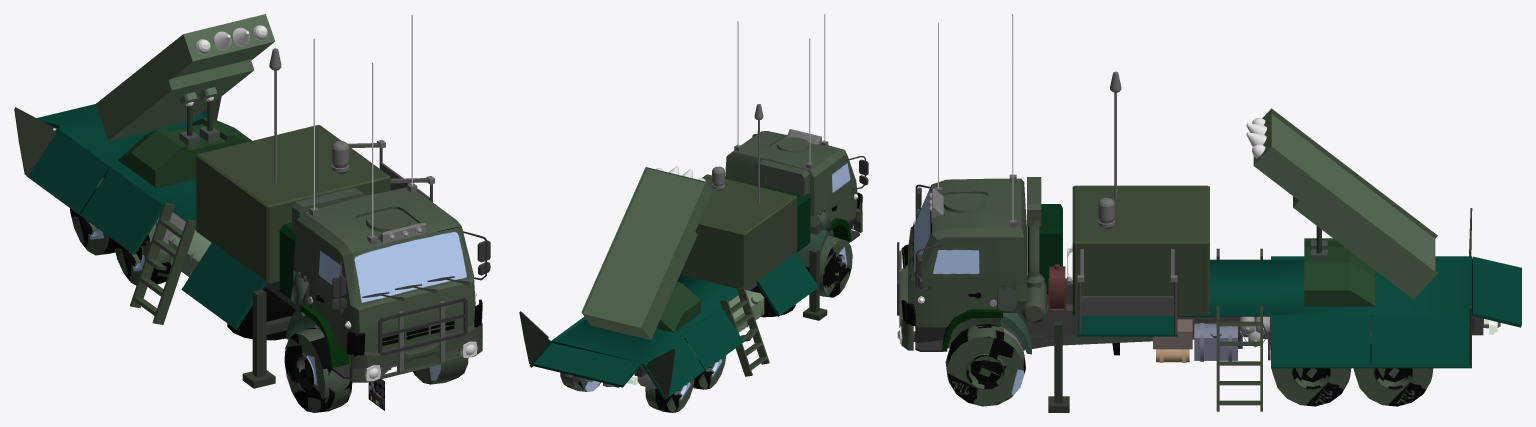
Rendered from only-antenna-deployed(green).fbx.
3 renders of one model, left to right at view 1: azimuth 30°, elevation 25°; view 2: azimuth 150°, elevation 25°; view 3: azimuth 270°, elevation 25°, orthographic. The views are drawn at different scales.
Parts seen in each view (by area): view 1: Куб.131, Куб.136, Cube, Cube.002, Цилиндр.051, Cube.001, Cube.008, Куб.096, Cube.016, Cube.011, Cube.007, Цилиндр.053 (+16 smaller); view 2: Cube.002, Куб.136, Cube, Куб.131, Цилиндр.051, Cube.008, Цилиндр.059, Цилиндр.001, Cube.001, Cube.015, Cube.011, Cube.010 (+6 smaller); view 3: Куб.136, Cube, Куб.131, Cube.002, Цилиндр.051, Cube.001, Цилиндр.001, Цилиндр.053, Куб.118, Цилиндр.059, Cube.018, Cube.009 (+11 smaller).
Part boxes in pixels (bbox=[...]): Куб.131: bbox=[293, 187, 482, 369]; Куб.136: bbox=[26, 104, 279, 329]; Cube: bbox=[196, 124, 390, 283]; Cube.002: bbox=[95, 14, 275, 140]; Цилиндр.051: bbox=[284, 327, 468, 412]; Cube.001: bbox=[118, 117, 251, 187]; Cube.008: bbox=[130, 203, 196, 324]; Куб.096: bbox=[349, 323, 482, 382]; Cube.016: bbox=[242, 289, 291, 388]; Cube.011: bbox=[14, 107, 56, 175]; Cube.007: bbox=[378, 297, 467, 355]; Цилиндр.053: bbox=[113, 223, 171, 285]; Cube.002: bbox=[581, 167, 712, 339]; Куб.136: bbox=[529, 252, 818, 399]; Cube: bbox=[680, 174, 797, 289]; Куб.131: bbox=[725, 131, 862, 252]; Цилиндр.051: bbox=[805, 235, 852, 297]; Cube.008: bbox=[720, 287, 769, 376]; Цилиндр.059: bbox=[754, 159, 809, 195]; Цилиндр.001: bbox=[560, 372, 694, 412]; Cube.001: bbox=[656, 282, 700, 332]; Cube.015: bbox=[765, 187, 810, 251]; Cube.011: bbox=[645, 348, 675, 397]; Cube.010: bbox=[519, 311, 550, 364]; Куб.136: bbox=[1077, 256, 1521, 368]; Cube: bbox=[1072, 185, 1209, 315]; Куб.131: bbox=[901, 178, 1026, 348]; Cube.002: bbox=[1253, 108, 1437, 299]; Цилиндр.051: bbox=[945, 324, 1025, 406]; Cube.001: bbox=[1304, 238, 1374, 306]; Цилиндр.001: bbox=[1353, 331, 1433, 406]; Цилиндр.053: bbox=[1271, 368, 1351, 406]; Куб.118: bbox=[1018, 278, 1483, 350]; Цилиндр.059: bbox=[1021, 177, 1046, 323]; Cube.018: bbox=[1078, 296, 1173, 315]; Cube.009: bbox=[1216, 305, 1262, 411].
Bounding box in the file's own units: 750 × 1240 × 2012.
66 materials, 5 textured.
